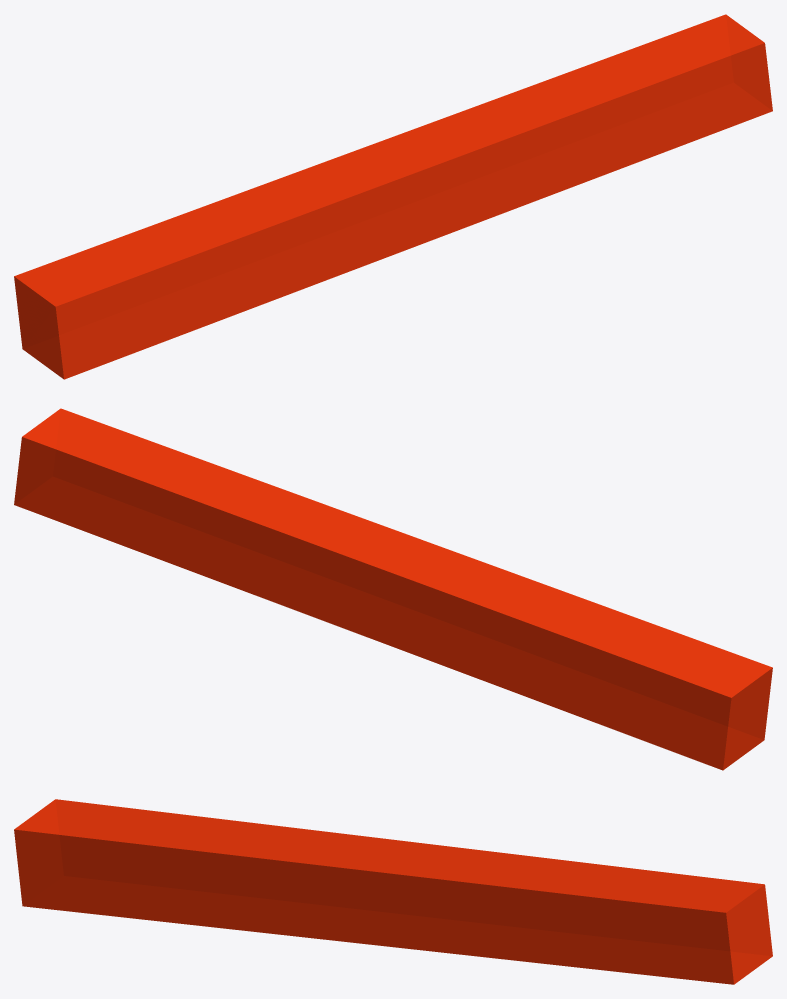
The model's file is Event_420107950_EErechit_28.fbx.
3 renders of one model, top to bottom at view 1: azimuth 30°, elevation 25°; view 2: azimuth 150°, elevation 25°; view 3: azimuth 330°, elevation 25°, orthographic.
Visible parts, largest first — view 1: Model; view 2: Model; view 3: Model.
Part boxes in pixels (left/top/right/bottom): Model: left=14, top=14, right=772, bottom=379; Model: left=14, top=408, right=772, bottom=770; Model: left=14, top=799, right=772, bottom=984.
Bounding box in the file's own units: 0.7724 × 0.1673 × 0.0774.
